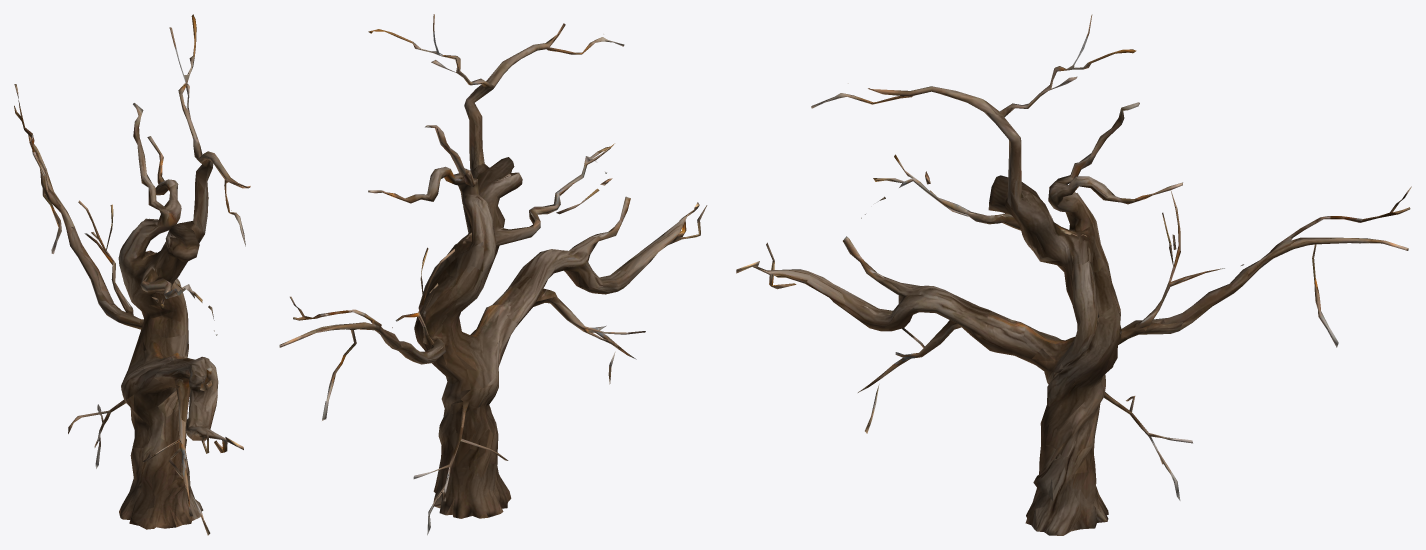
The model's file is arbolRama.obj.
3 renders of one model, left to right at view 1: azimuth 30°, elevation 25°; view 2: azimuth 150°, elevation 25°; view 3: azimuth 270°, elevation 25°, orthographic. The views are drawn at different scales.
Visible parts, largest first — view 1: tripo_node_6b8e31f6-d343-497f-aeec-11c907e49600; view 2: tripo_node_6b8e31f6-d343-497f-aeec-11c907e49600; view 3: tripo_node_6b8e31f6-d343-497f-aeec-11c907e49600.
Boxes of the visible parts, bbox=[...] form: tripo_node_6b8e31f6-d343-497f-aeec-11c907e49600: bbox=[14, 14, 250, 535]; tripo_node_6b8e31f6-d343-497f-aeec-11c907e49600: bbox=[279, 14, 707, 535]; tripo_node_6b8e31f6-d343-497f-aeec-11c907e49600: bbox=[736, 14, 1411, 535].
Bounding box in the file's own units: 0.2954 × 0.8397 × 0.9995.
1 material, 1 textured.
